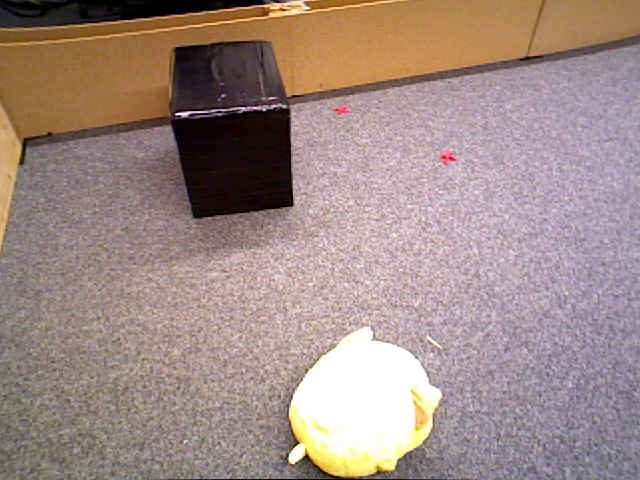grasp: (288, 336, 436, 480)
push: (168, 45, 294, 218)
